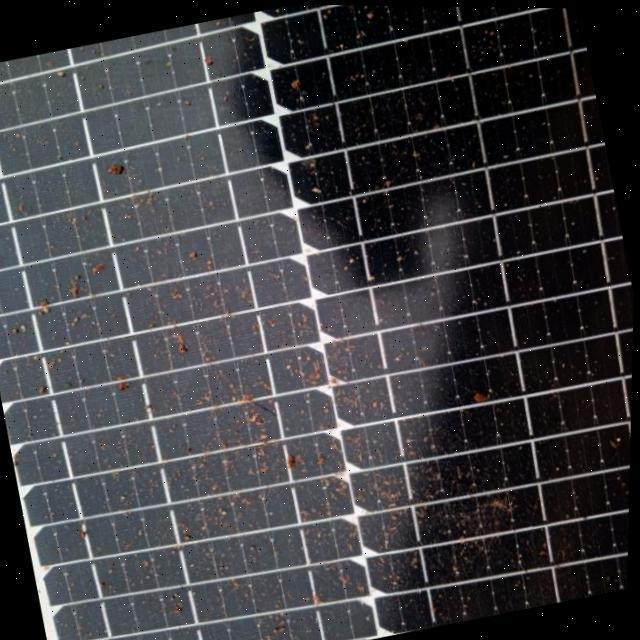Anomaly Solar Panel: (0, 0, 640, 640)
Surface Contaminant: (0, 4, 635, 640)
